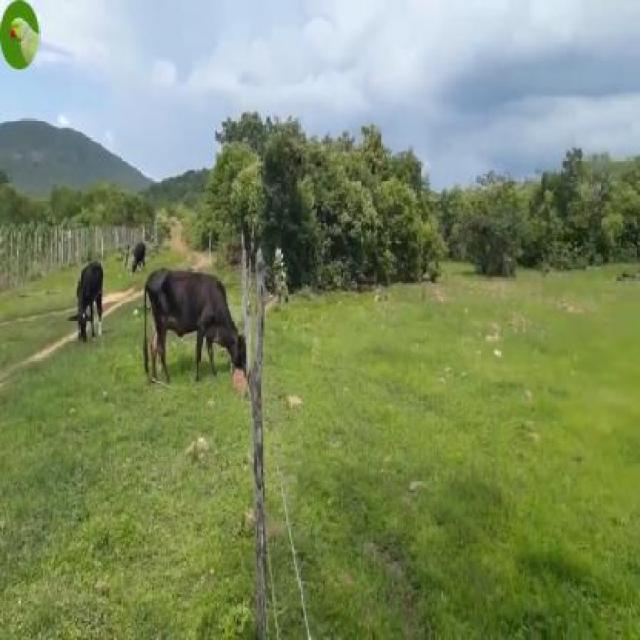Cow: (143, 272, 248, 391)
